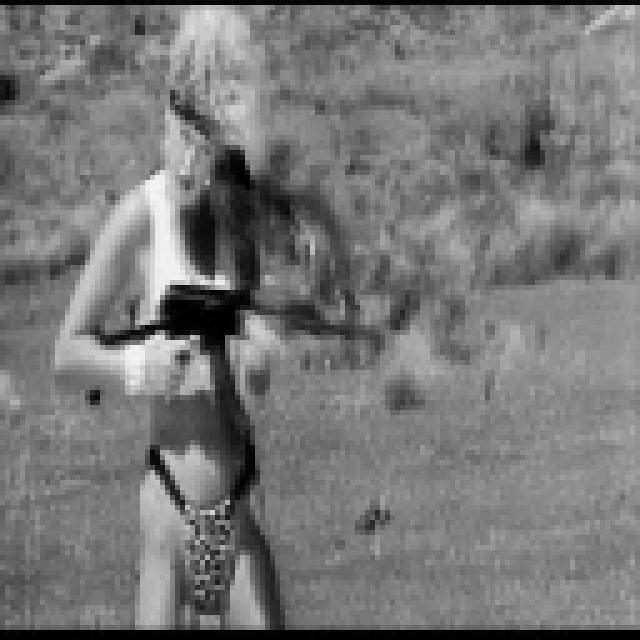Rifle: (87, 241, 395, 472)
